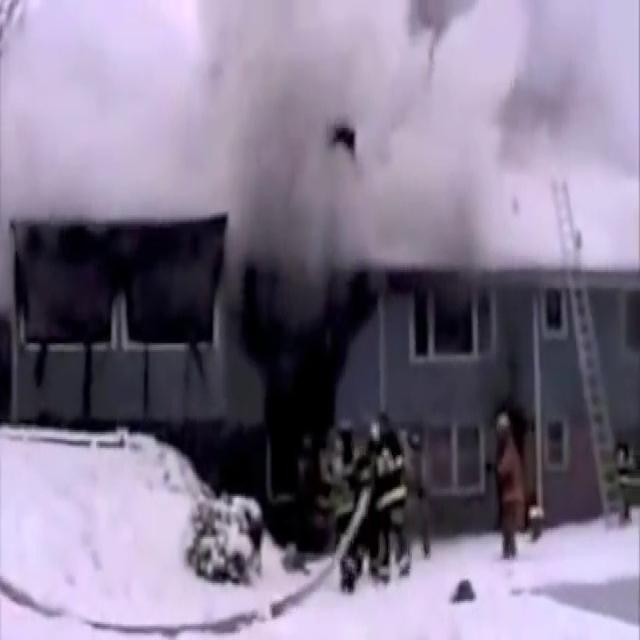Smoke: (2, 0, 632, 263)
